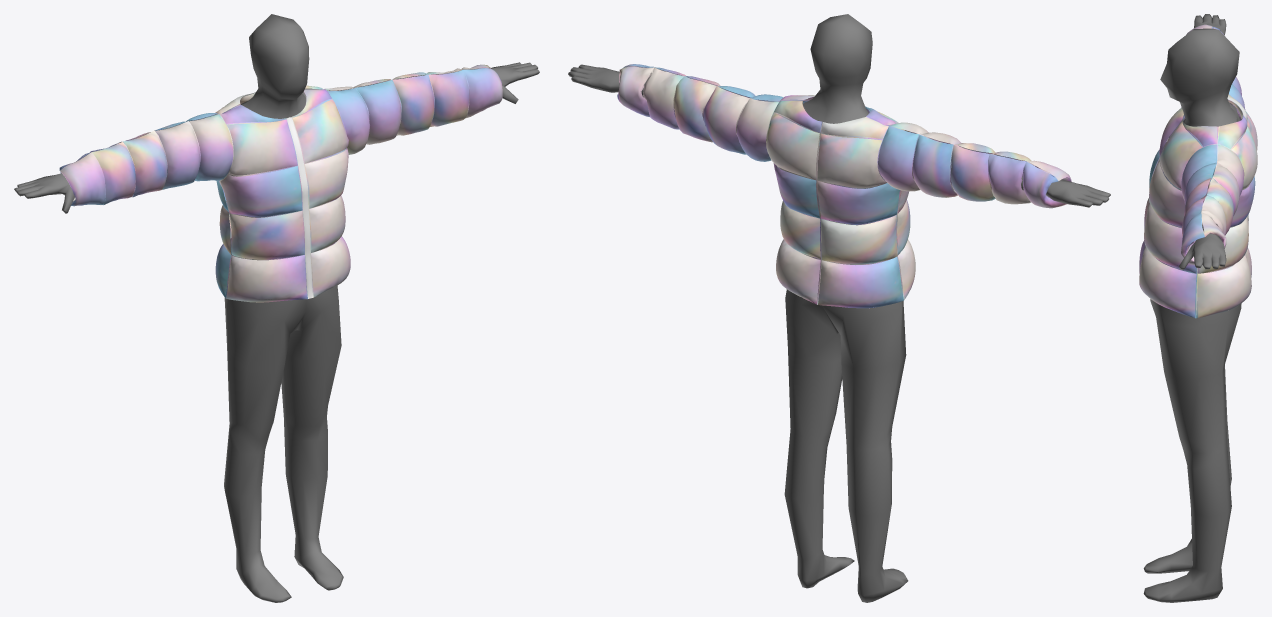
Rendered from DownJacket.fbx.
3 renders of one model, left to right at view 1: azimuth 30°, elevation 25°; view 2: azimuth 150°, elevation 25°; view 3: azimuth 270°, elevation 25°, orthographic. The views are drawn at different scales.
Parts seen in each view (by area): view 1: Vest, body_low, head_low, hand_R_low, hand_L_low; view 2: Vest, body_low, head_low, hand_R_low, hand_L_low; view 3: Vest, body_low, head_low, hand_L_low, hand_R_low.
Part boxes in pixels (<box>): Vest: <box>59,64,502,302</box>; body_low: <box>224,92,343,602</box>; head_low: <box>243,14,309,118</box>; hand_R_low: <box>14,173,74,213</box>; hand_L_low: <box>491,62,539,103</box>; Vest: <box>617,64,1071,308</box>; body_low: <box>641,78,1023,602</box>; head_low: <box>803,14,872,123</box>; hand_R_low: <box>1046,179,1110,207</box>; hand_L_low: <box>568,64,619,92</box>; Vest: <box>1139,24,1257,318</box>; body_low: <box>1143,102,1241,602</box>; head_low: <box>1160,28,1239,126</box>; hand_L_low: <box>1179,233,1226,269</box>; hand_R_low: <box>1194,14,1226,35</box>.
Bounding box in the file's own units: 1.76 × 1.8 × 0.3499.
